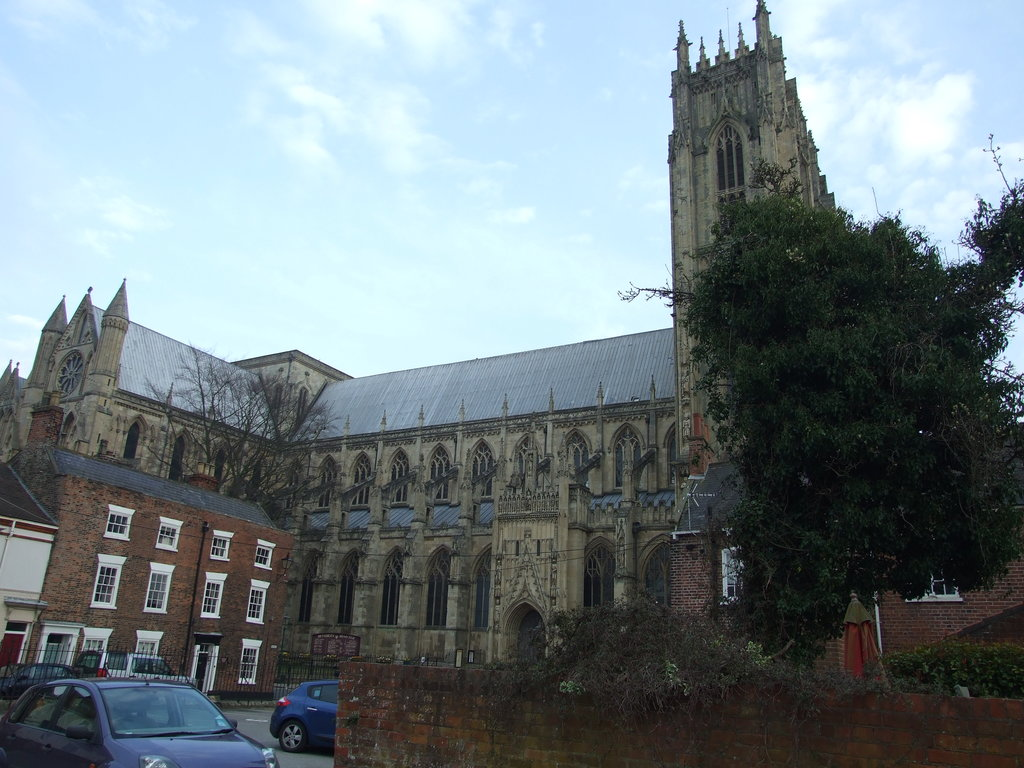Car: (21, 681, 261, 768), (270, 680, 337, 753), (72, 654, 189, 680), (0, 664, 83, 700), (0, 665, 26, 684)
